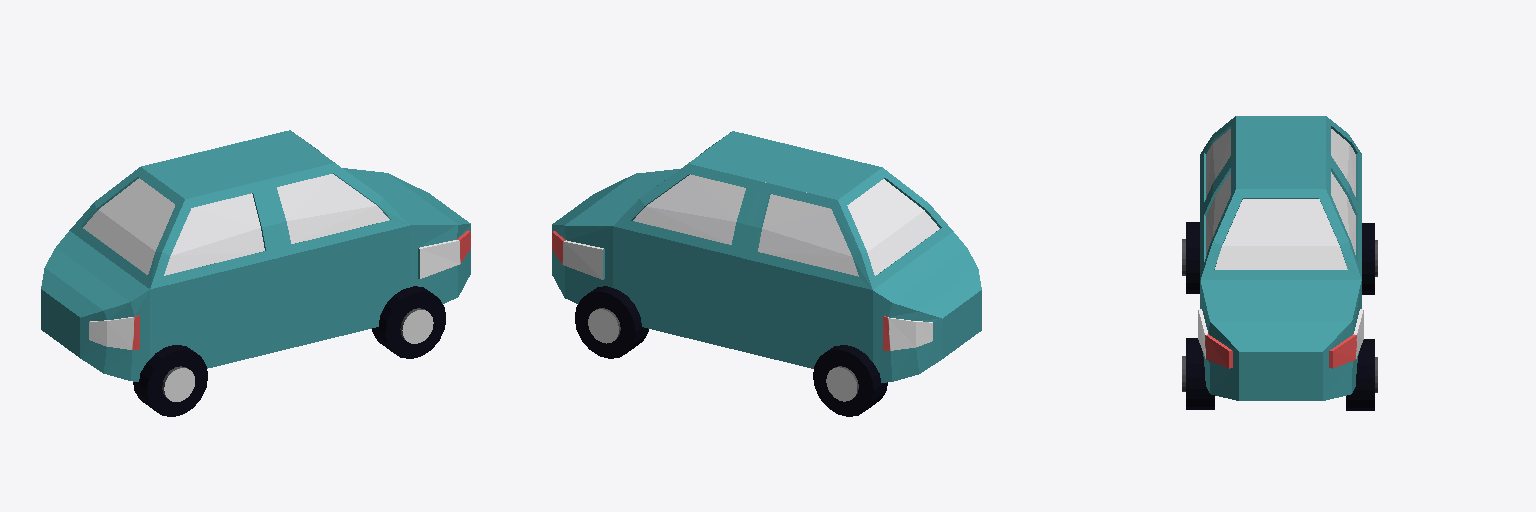
3 views of the same model, side by side, from view 1: azimuth 30°, elevation 25°; view 2: azimuth 150°, elevation 25°; view 3: azimuth 270°, elevation 25° (orthographic).
Parts seen in each view (by area): view 1: Object151; view 2: Object151; view 3: Object151.
Boxes of the visible parts, x1,y1,x2,y2 form: Object151: [41, 130, 470, 416]; Object151: [552, 131, 981, 416]; Object151: [1182, 116, 1377, 410].
Bounding box in the file's own units: 363 × 170 × 158.
1 materials, 1 textured.